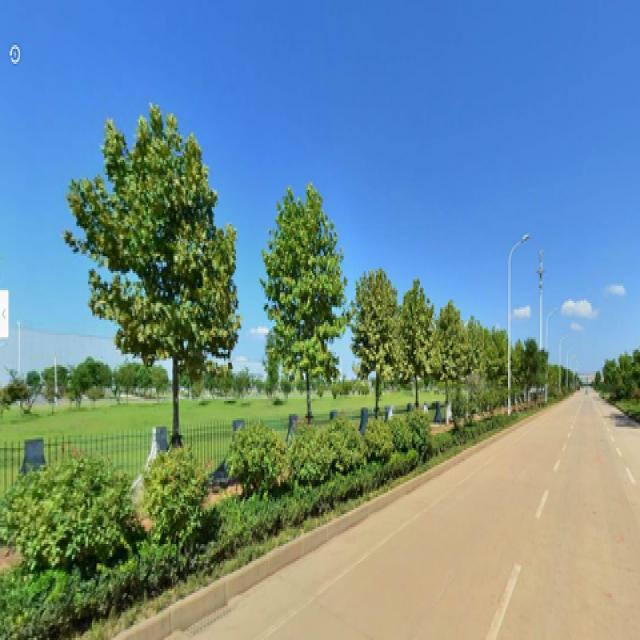meta: (101, 134, 223, 463), (271, 188, 332, 416), (355, 269, 392, 412), (404, 280, 431, 401)
